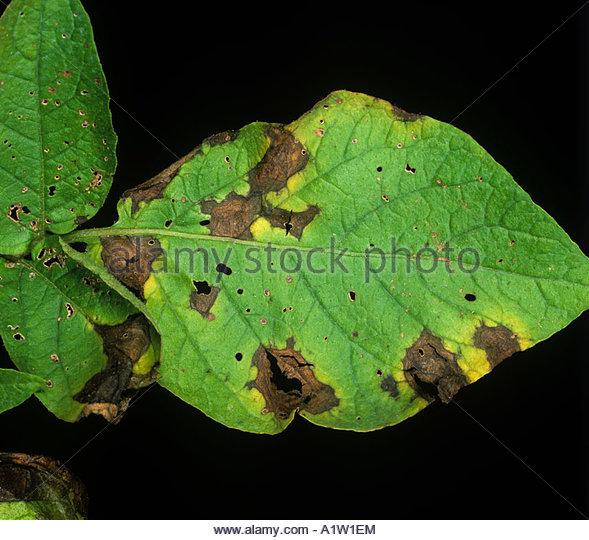Potato leaf late blight: (75, 86, 589, 438), (5, 238, 161, 430)
